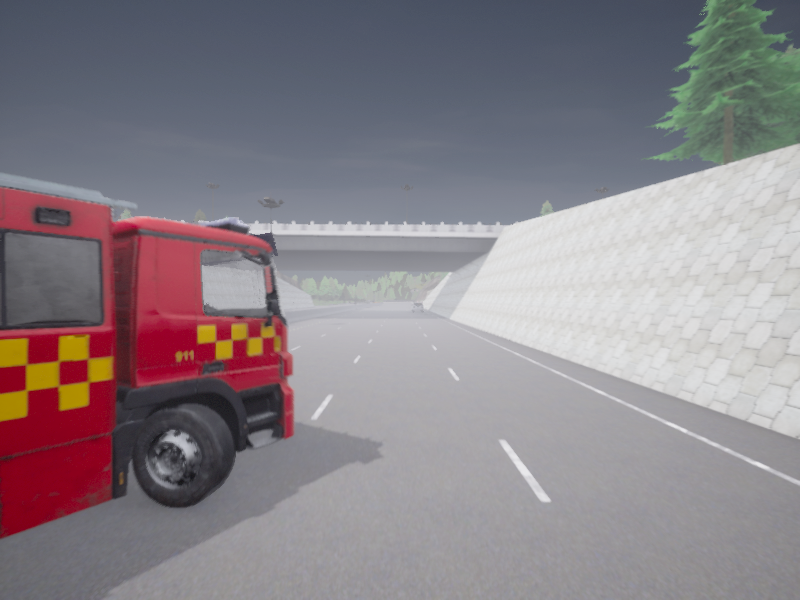vehicle: (0, 172, 294, 539), (411, 302, 422, 312)
